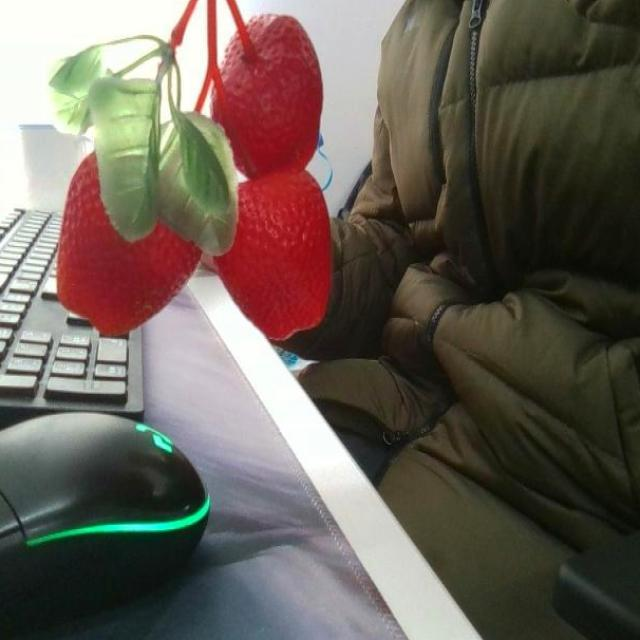Healthy Fruit: (55, 147, 203, 337), (208, 168, 333, 342), (210, 12, 323, 177)
